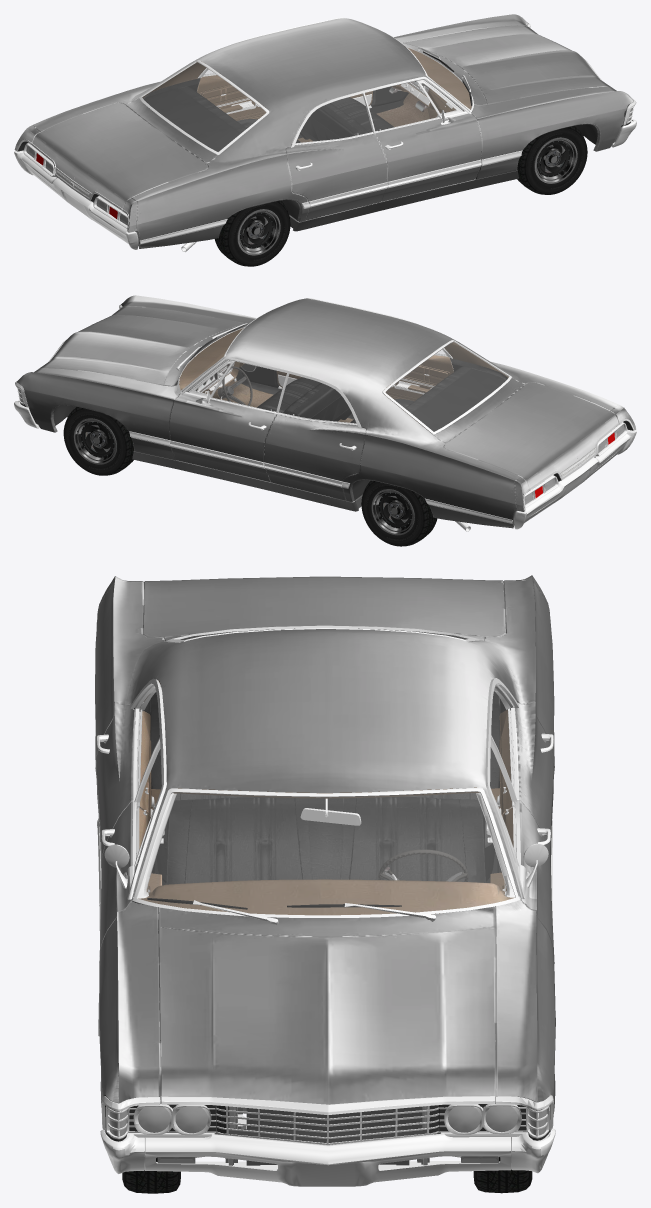
The model's file is car1-transformed.glb.
The picture shows the model from 3 angles, top to bottom: view 1: azimuth 30°, elevation 25°; view 2: azimuth 150°, elevation 25°; view 3: azimuth 270°, elevation 25°; orthographic projection. The views are drawn at different scales.
Parts seen in each view (by area): view 1: Material6-material-material, Material0-material-material, Material3-material-material, Material73-material-material, Material12-material-material, Material72-material-material, Material55-material-material, Material16-material-material, Material20-material-material, Material13-material-material, Material24-material-material; view 2: Material6-material-material, Material0-material-material, Material3-material-material, Material73-material-material, Material12-material-material, Material72-material-material, Material55-material-material, Material16-material-material, Material10-material-material, Material24-material-material, Material13-material-material; view 3: Material6-material-material, Material0-material-material, Material3-material-material, Material55-material-material, Material16-material-material, Material24-material-material, Material73-material-material, Material10-material-material, Material20-material-material.
Boxes of the visible parts, x1,y1,x2,y2 form: Material6-material-material: (14,14,633,248); Material0-material-material: (14,17,636,251); Material3-material-material: (26,41,632,225); Material73-material-material: (214,126,587,266); Material12-material-material: (143,78,445,151); Material72-material-material: (237,137,577,255); Material55-material-material: (299,97,394,141); Material16-material-material: (142,46,471,112); Material20-material-material: (197,75,266,120); Material13-material-material: (297,93,437,142); Material24-material-material: (179,86,300,143); Material6-material-material: (17,295,635,527); Material0-material-material: (14,298,636,531); Material3-material-material: (18,321,624,504); Material73-material-material: (63,407,437,546); Material12-material-material: (236,358,507,431); Material72-material-material: (73,418,414,535); Material55-material-material: (257,377,351,421); Material16-material-material: (179,328,508,429); Material10-material-material: (385,355,453,401); Material24-material-material: (350,366,471,423); Material13-material-material: (222,380,353,422); Material6-material-material: (95,575,555,1131); Material0-material-material: (96,583,555,1186); Material3-material-material: (109,629,546,1163); Material55-material-material: (166,797,485,884); Material16-material-material: (138,680,514,915); Material24-material-material: (150,693,500,882); Material73-material-material: (122,1157,532,1193); Material10-material-material: (139,711,160,818); Material20-material-material: (491,710,512,816).
Size of the model in its own units: 5.49 by 1.53 by 2.1.
Materials: 17 (17 with a texture image).
